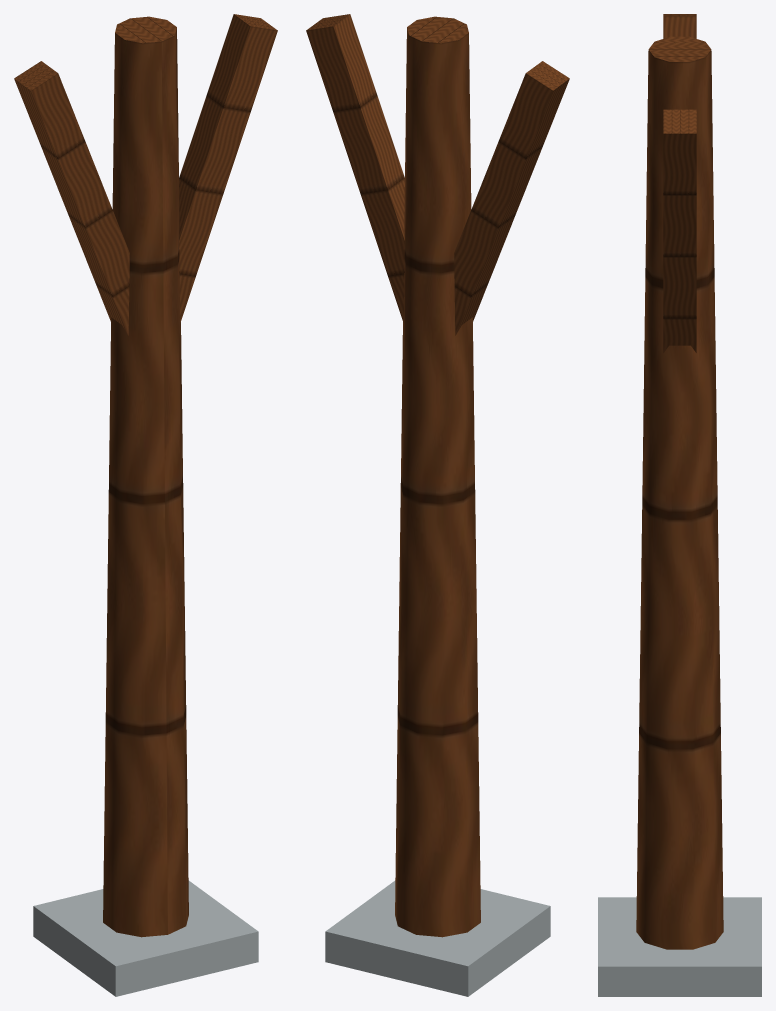
Rendered from prehistoric-survivor-settlement-bone-lashed-pole-1b9960a0__23193.glb.
The picture shows the model from 3 angles, left to right: view 1: azimuth 30°, elevation 25°; view 2: azimuth 150°, elevation 25°; view 3: azimuth 270°, elevation 25°; orthographic projection.
Visible parts, largest first — view 1: bone-lashed-pole; view 2: bone-lashed-pole; view 3: bone-lashed-pole.
Boxes of the visible parts, x1,y1,x2,y2 form: bone-lashed-pole: (14,14,277,996); bone-lashed-pole: (306,14,569,996); bone-lashed-pole: (598,14,761,996).
Bounding box in the file's own units: 0.6748 × 2.4 × 0.39.
2 materials, 1 textured.
